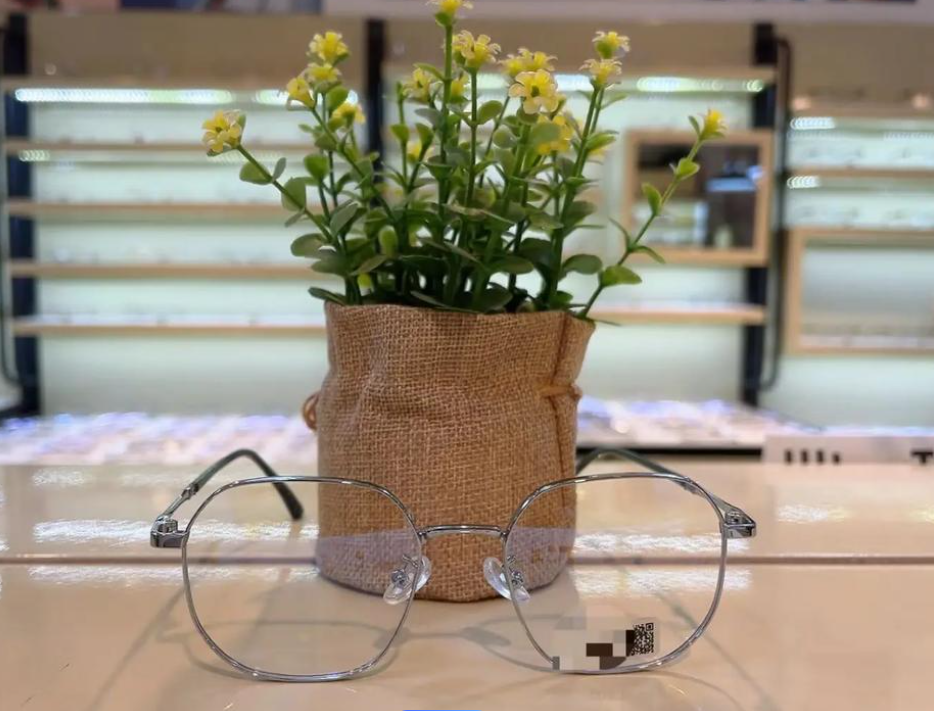glass: (142, 425, 775, 690)
